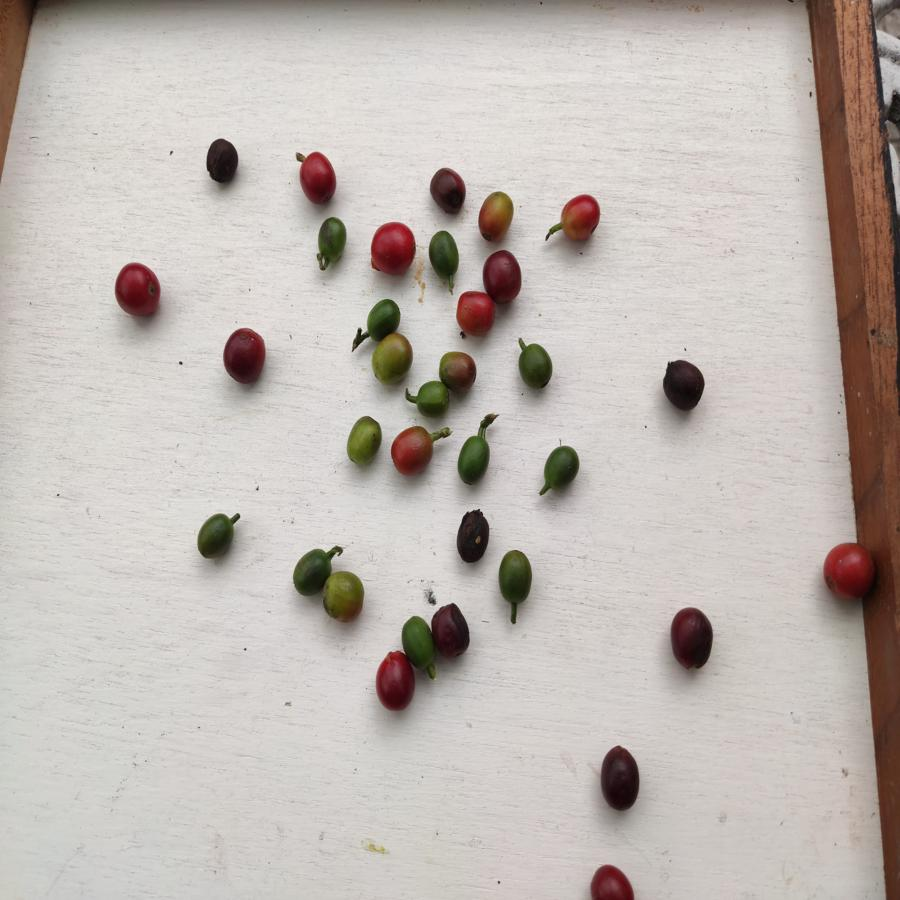Inmaduro: (344, 414, 383, 469), (517, 340, 557, 393), (193, 514, 238, 561), (543, 440, 580, 496), (499, 547, 532, 608), (314, 216, 352, 267), (400, 613, 434, 670), (293, 545, 329, 597), (429, 229, 464, 281), (457, 433, 491, 484), (363, 297, 403, 335), (417, 380, 449, 418)
Maduro: (821, 539, 878, 606), (112, 261, 164, 317), (369, 221, 418, 278), (561, 189, 601, 247), (392, 425, 435, 478), (297, 152, 339, 205), (454, 291, 497, 340)
Pinton: (323, 571, 367, 627), (475, 188, 515, 242), (376, 333, 411, 385), (442, 350, 479, 391)
Sobremaduro: (665, 605, 719, 671), (221, 327, 271, 389), (597, 744, 642, 812), (658, 355, 707, 416), (479, 249, 525, 304), (433, 603, 474, 660), (374, 655, 412, 711), (427, 164, 468, 215), (454, 509, 492, 564), (590, 859, 637, 900), (203, 137, 241, 185)
